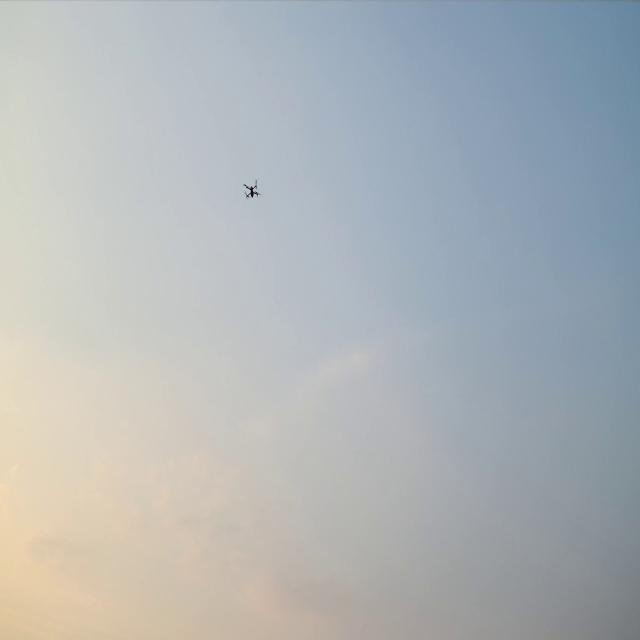UAV: (245, 182, 258, 197)
